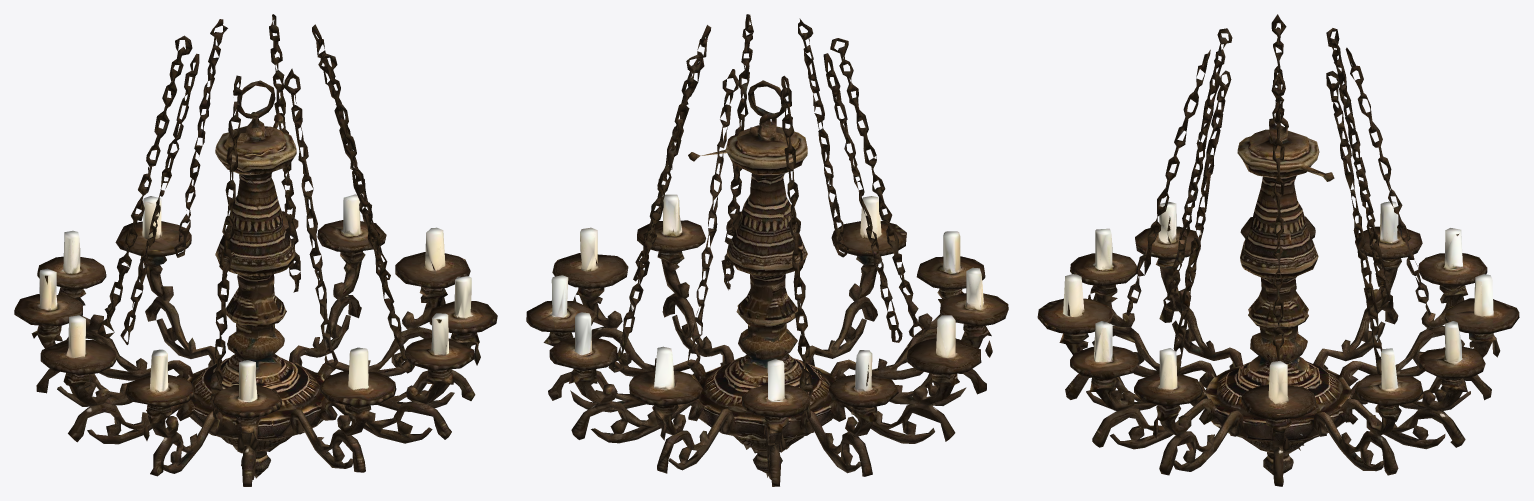
The model's file is chandelier.glb.
3 renders of one model, left to right at view 1: azimuth 30°, elevation 25°; view 2: azimuth 150°, elevation 25°; view 3: azimuth 270°, elevation 25°, orthographic.
Size of the model in its own units: 1.91 by 1.91 by 1.91.
1 material, 1 textured.
